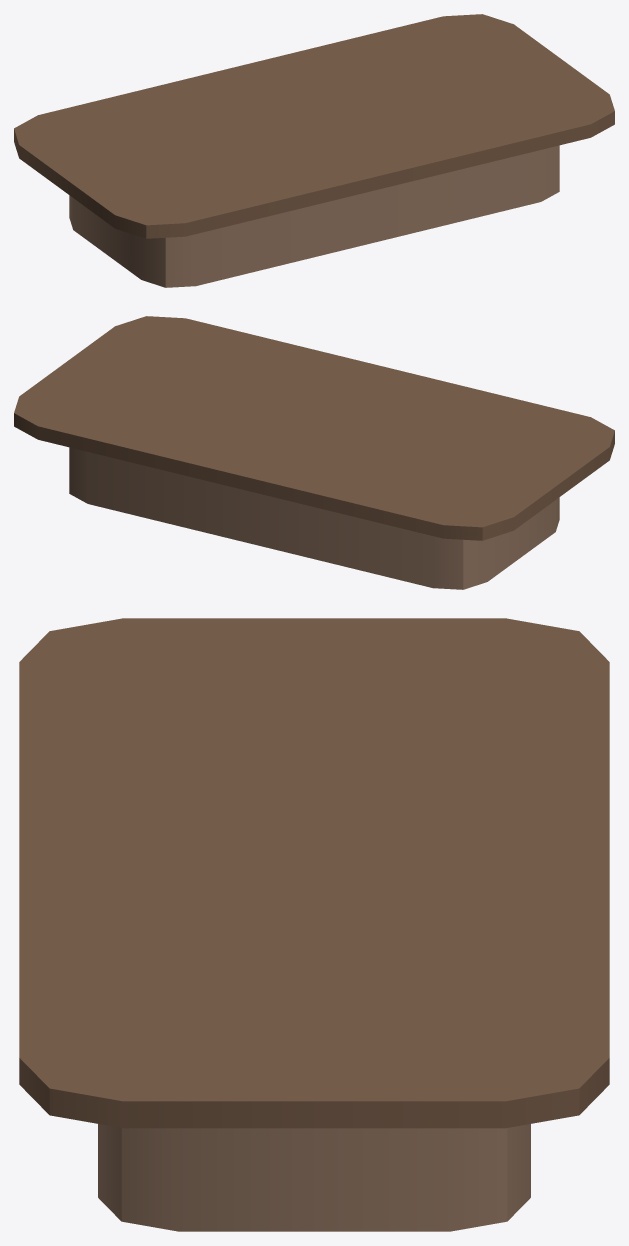
Rendered from MettingTable.fbx.
The picture shows the model from 3 angles, top to bottom: view 1: azimuth 30°, elevation 25°; view 2: azimuth 150°, elevation 25°; view 3: azimuth 270°, elevation 25°; orthographic projection. The views are drawn at different scales.
Parts seen in each view (by area): view 1: MettingTable; view 2: MettingTable; view 3: MettingTable.
Part boxes in pixels (box(x1,y1,x2,y2)): MettingTable: box(14, 14, 614, 287); MettingTable: box(14, 316, 614, 589); MettingTable: box(19, 618, 609, 1231).
Size of the model in its own units: 1609 by 263 by 831.
